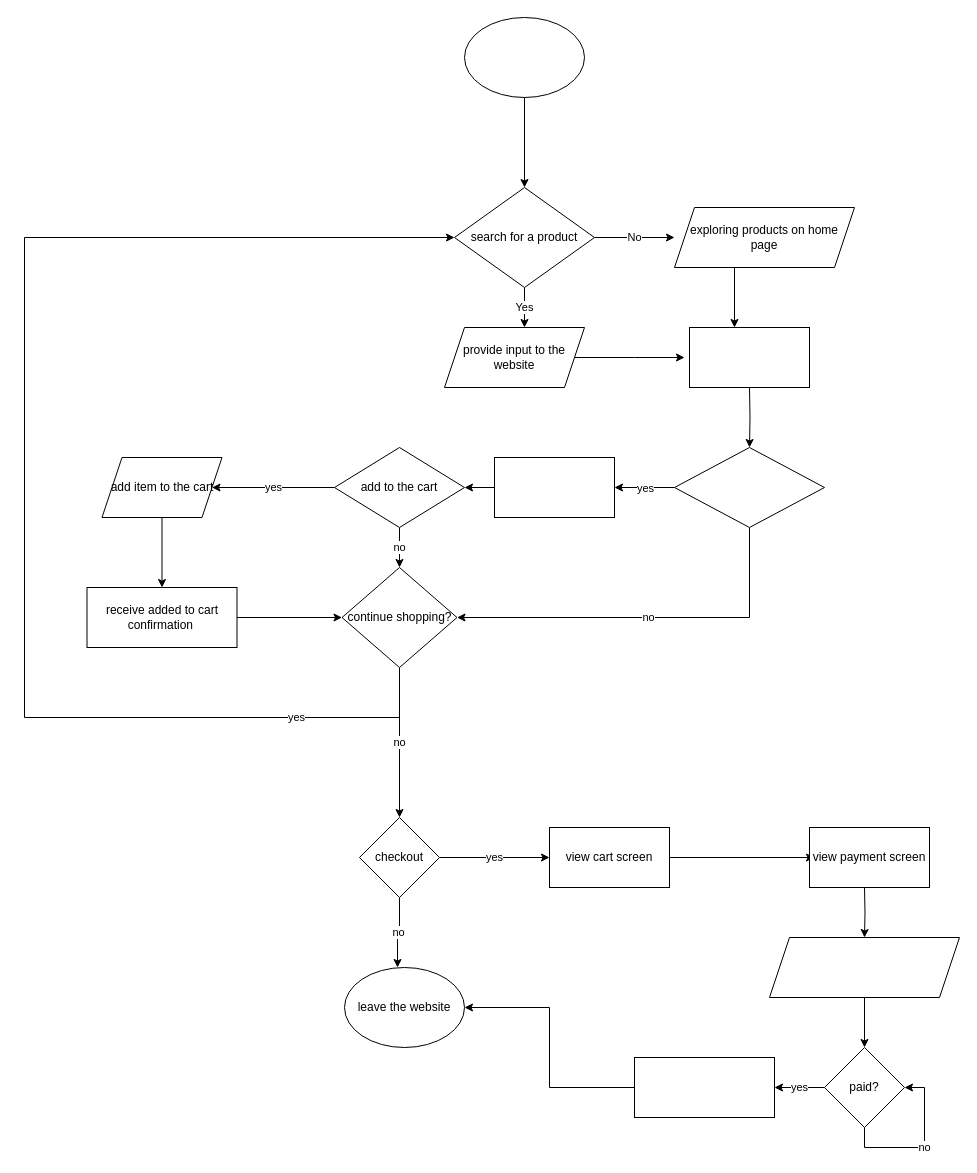
Some shapes in this 977 by 1173 pixel diagram are drawn without their labels. The box of each missing label's shape, as (x1, y1, x2, y2) in pixels:
Entering the website: (464, 16, 584, 98)
input payment information: (768, 936, 960, 998)
looking over the product: (688, 326, 810, 388)
open product's webpage: (494, 456, 614, 518)
order confirmation screen and receive an confirmation email: (634, 1056, 774, 1118)
viewing a specific product: (674, 446, 824, 528)
